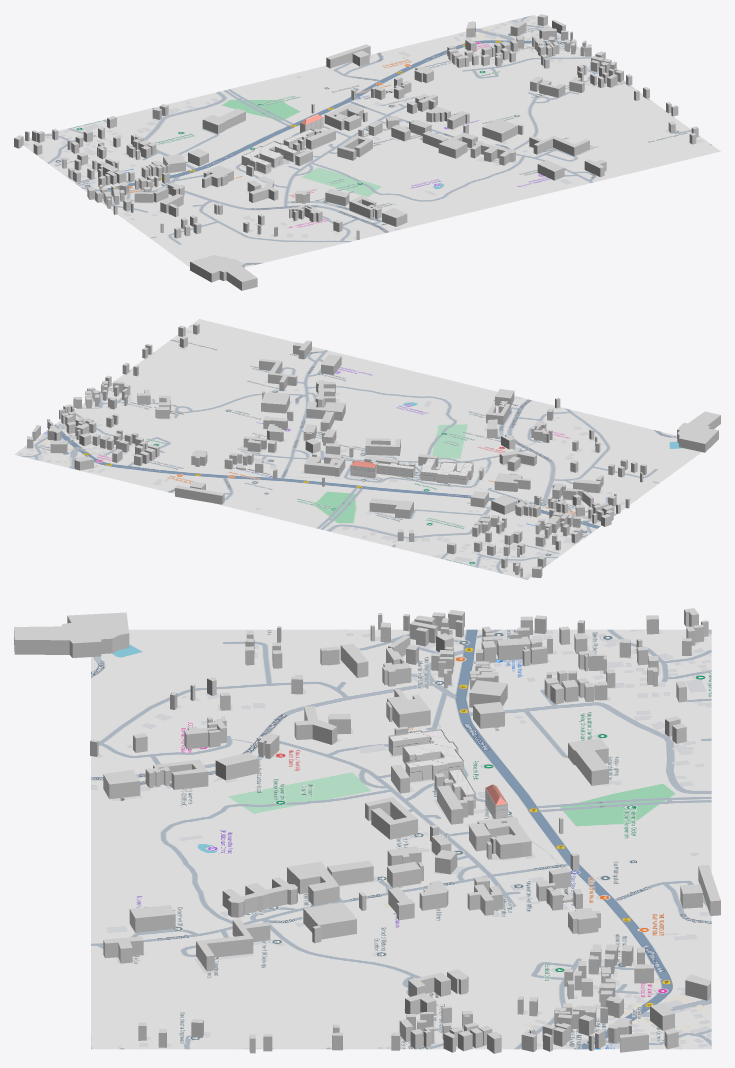
3 views of the same model, one above another, from view 1: azimuth 30°, elevation 25°; view 2: azimuth 150°, elevation 25°; view 3: azimuth 270°, elevation 25° (orthographic). The views are drawn at different scales.
Visible parts, largest first — view 1: EXPORT_GOOGLE_MAP_WM, Leela building, UGC - Human Resource Development Centre, Political Science, Economics, Sociology, History, Department of Future Studies, Kerala Highway Research Institute, 798419268, School of Buisiness, Management & Legal Studies, 1202708224, 225367091, Det of Media & Journalism; view 2: EXPORT_GOOGLE_MAP_WM, Leela building, UGC - Human Resource Development Centre, Kerala Highway Research Institute, Political Science, Economics, Sociology, History, Det of Media & Journalism, School of Buisiness, Management & Legal Studies, 798419268, 225367091, 1202708224, Science Block II, 1202707782 (+1 smaller); view 3: EXPORT_GOOGLE_MAP_WM, Leela building, UGC - Human Resource Development Centre, Political Science, Economics, Sociology, History, Department of Future Studies, 798419268, School of Buisiness, Management & Legal Studies, Kerala Highway Research Institute, 1202708224, Science Block II, 225367091, Philosophy, Archeology, Islamic Studies (+14 smaller).
Boxes of the visible parts, left/top/right/bottom form: EXPORT_GOOGLE_MAP_WM: left=23, top=15, right=720, bottom=267; Leela building: left=190, top=255, right=257, bottom=290; UGC - Human Resource Development Centre: left=241, top=141, right=298, bottom=173; Political Science, Economics, Sociology, History: left=529, top=135, right=589, bottom=156; Department of Future Studies: left=470, top=141, right=515, bottom=165; Kerala Highway Research Institute: left=202, top=108, right=245, bottom=133; 798419268: left=438, top=132, right=477, bottom=158; School of Buisiness, Management & Legal Studies: left=337, top=135, right=372, bottom=160; 1202708224: left=482, top=119, right=517, bottom=142; 225367091: left=202, top=165, right=233, bottom=188; Det of Media & Journalism: left=326, top=44, right=370, bottom=68; EXPORT_GOOGLE_MAP_WM: left=14, top=319, right=701, bottom=579; Leela building: left=677, top=411, right=720, bottom=452; UGC - Human Resource Development Centre: left=420, top=458, right=473, bottom=484; Kerala Highway Research Institute: left=369, top=498, right=413, bottom=518; Political Science, Economics, Sociology, History: left=259, top=358, right=297, bottom=391; Det of Media & Journalism: left=175, top=485, right=224, bottom=504; School of Buisiness, Management & Legal Studies: left=365, top=438, right=400, bottom=455; 798419268: left=306, top=401, right=345, bottom=420; 225367091: left=494, top=473, right=530, bottom=491; 1202708224: left=261, top=392, right=289, bottom=413; Science Block II: left=304, top=456, right=340, bottom=475; 1202707782: left=377, top=462, right=414, bottom=477; EXPORT_GOOGLE_MAP_WM: left=91, top=629, right=711, bottom=1049; Leela building: left=14, top=612, right=129, bottom=657; UGC - Human Resource Development Centre: left=388, top=729, right=463, bottom=782; Political Science, Economics, Sociology, History: left=196, top=919, right=270, bottom=971; Department of Future Studies: left=222, top=877, right=297, bottom=917; 798419268: left=287, top=861, right=339, bottom=905; School of Buisiness, Management & Legal Studies: left=365, top=797, right=417, bottom=839; Kerala Highway Research Institute: left=568, top=738, right=608, bottom=785; 1202708224: left=303, top=902, right=356, bottom=939; Science Block II: left=485, top=818, right=531, bottom=859; 225367091: left=387, top=689, right=430, bottom=727; Philosophy, Archeology, Islamic Studies: left=129, top=905, right=175, bottom=932.
Size of the model in its own units: 1257 by 35.42 by 871.
3 materials, 3 textured.
